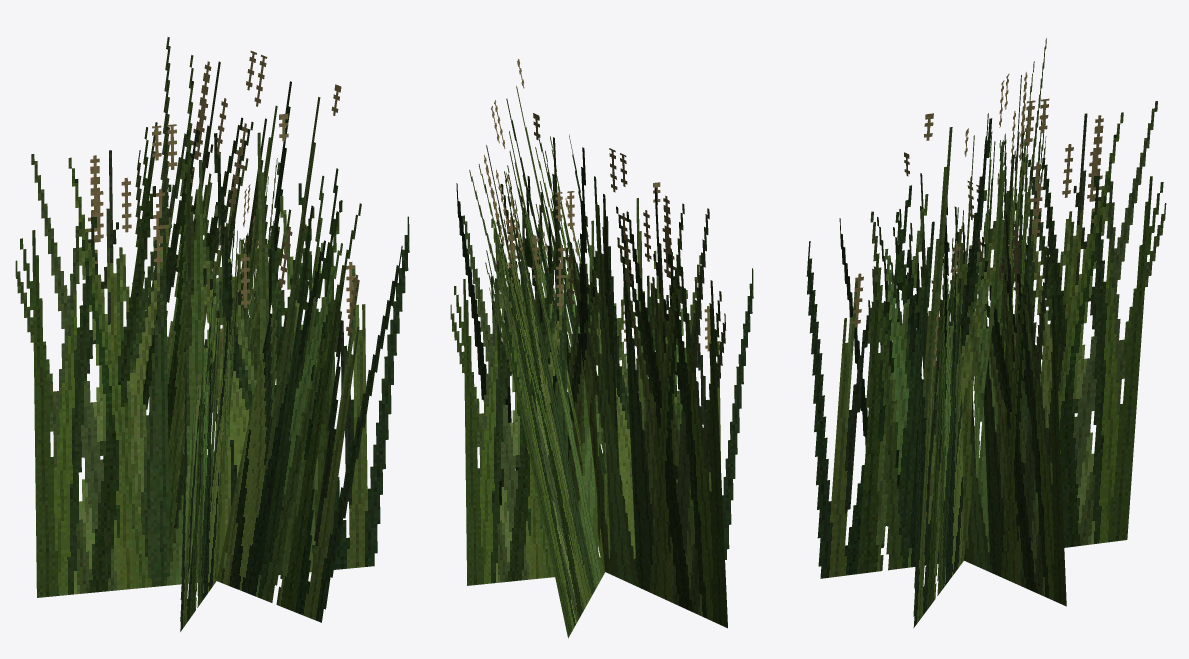
The model's file is FOLIAGE_Grass_Tall_01.glb.
The picture shows the model from 3 angles, left to right: view 1: azimuth 30°, elevation 25°; view 2: azimuth 150°, elevation 25°; view 3: azimuth 270°, elevation 25°; orthographic projection. The views are drawn at different scales.
Visible parts, largest first — view 1: FOLIAGE_Grass_Tall_01; view 2: FOLIAGE_Grass_Tall_01; view 3: FOLIAGE_Grass_Tall_01.
Boxes of the visible parts, bbox=[...] form: FOLIAGE_Grass_Tall_01: bbox=[15, 37, 409, 631]; FOLIAGE_Grass_Tall_01: bbox=[450, 59, 753, 638]; FOLIAGE_Grass_Tall_01: bbox=[806, 38, 1166, 627].
Bounding box in the file's own units: 0.757 × 1.03 × 0.7237.
1 material, 1 textured.
